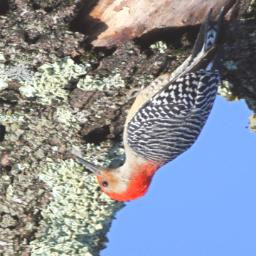Woodpecker: (63, 0, 248, 216)
